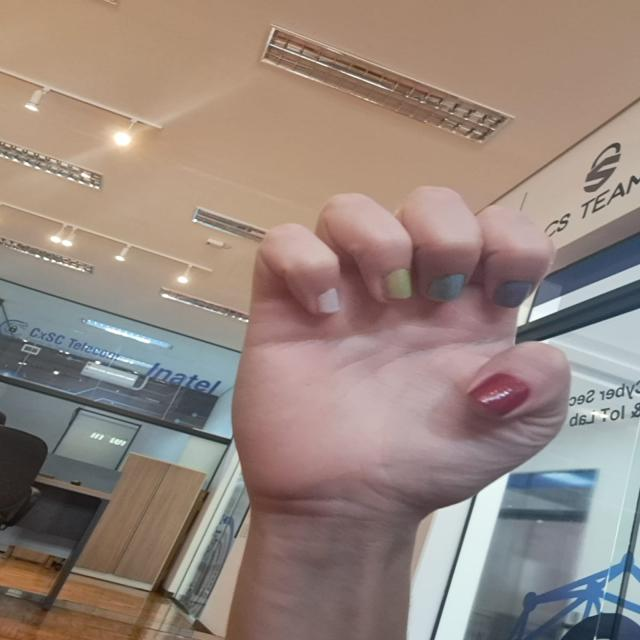E: (224, 172, 597, 514)
